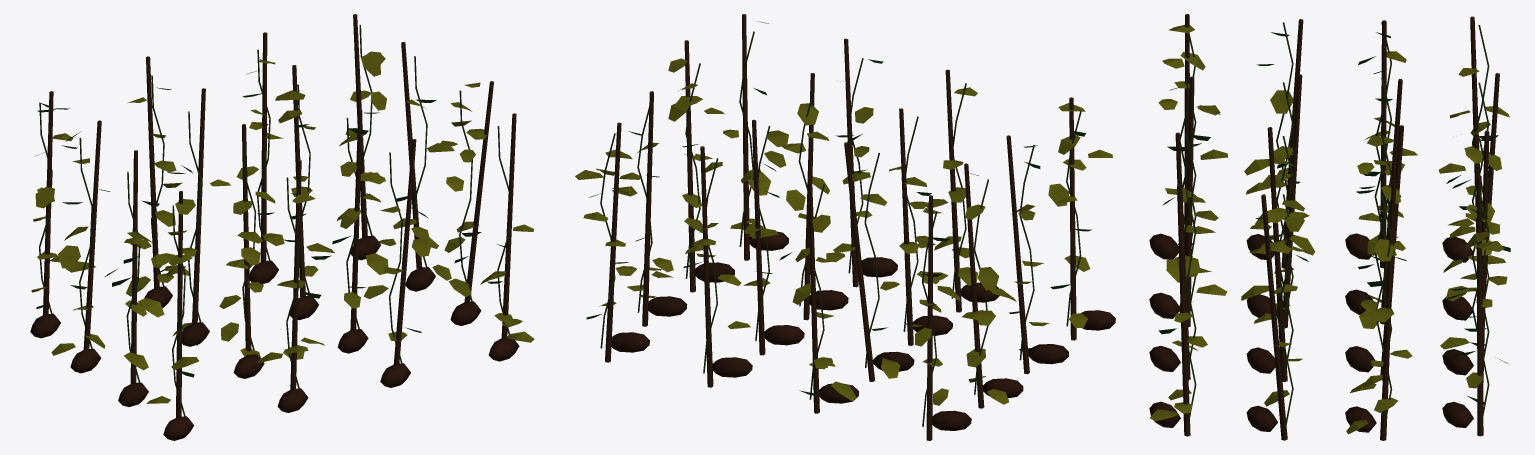
File: fm_yam_3.glb
3 views of the same model, side by side, from view 1: azimuth 30°, elevation 25°; view 2: azimuth 150°, elevation 25°; view 3: azimuth 270°, elevation 25° (orthographic). The views are drawn at different scales.
Visible parts, largest first — view 1: fm_yam_3; view 2: fm_yam_3; view 3: fm_yam_3.
Part boxes in pixels (<box>): fm_yam_3: <box>30,14,534,440</box>; fm_yam_3: <box>575,14,1115,440</box>; fm_yam_3: <box>1149,14,1510,440</box>.
Size of the model in its own units: 3.68 by 2.1 by 2.83.
